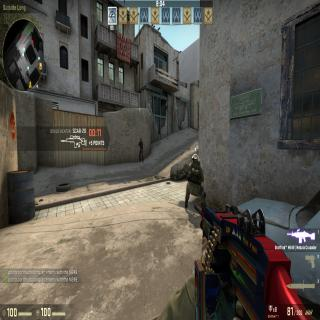CT-Body: (186, 152, 204, 212)
CT-Head: (191, 152, 201, 162)
T-Body: (138, 136, 144, 162)
T-Head: (140, 137, 142, 142)
